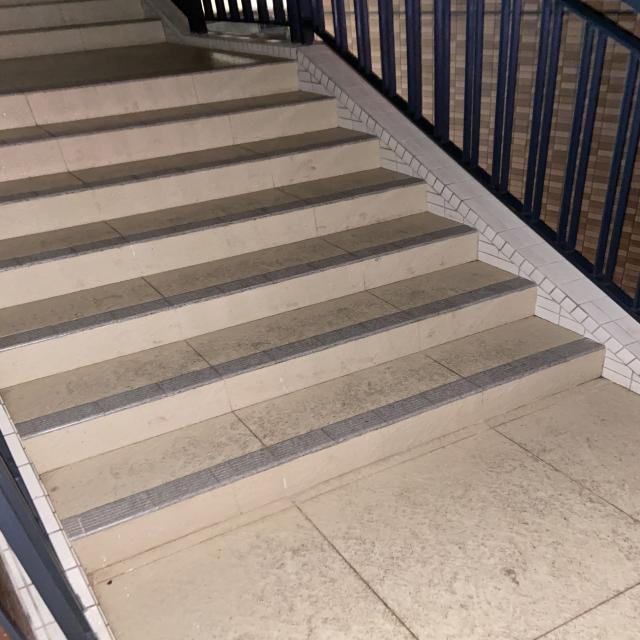Stairs: (0, 0, 608, 525)
